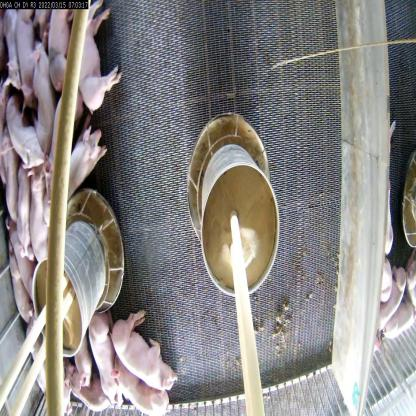Pig: (66, 0, 115, 112), (110, 304, 174, 388), (55, 125, 105, 212), (28, 42, 63, 164), (87, 310, 122, 416), (112, 360, 171, 416), (47, 1, 79, 90), (3, 97, 41, 167), (30, 166, 53, 269), (12, 154, 35, 248), (17, 5, 38, 96), (69, 334, 92, 404), (14, 230, 33, 297)
